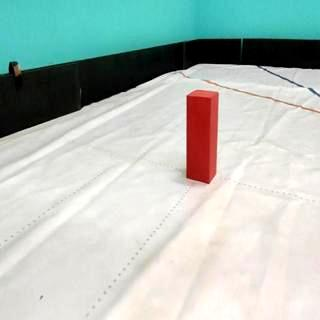redbox: (186, 88, 218, 185)
